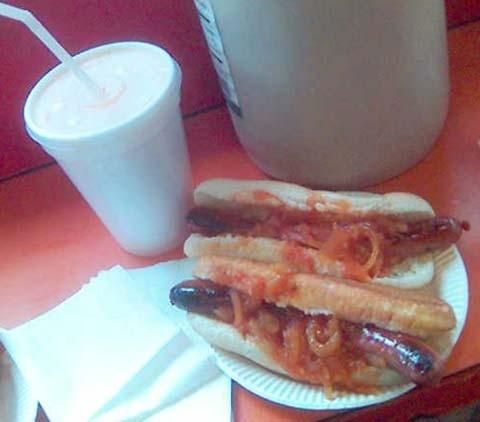onion: (306, 320, 342, 358), (320, 230, 352, 264), (225, 288, 247, 329), (360, 229, 378, 272), (319, 358, 335, 401), (257, 306, 280, 334), (316, 319, 340, 344), (294, 224, 310, 240)
